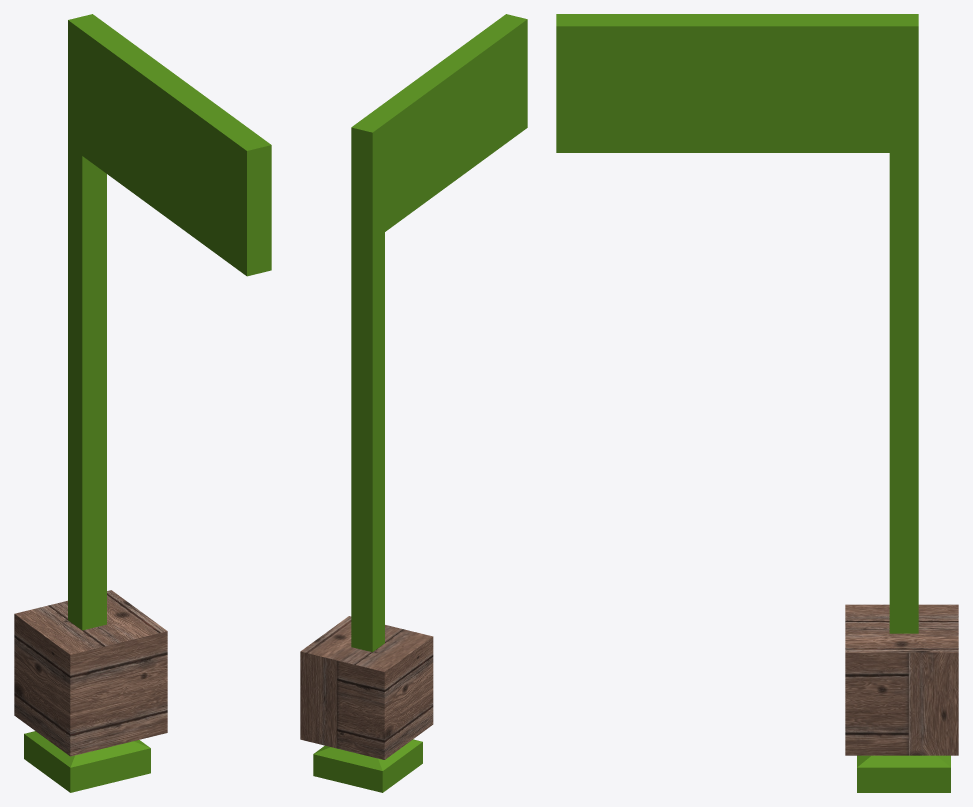
3 views of the same model, side by side, from view 1: azimuth 30°, elevation 25°; view 2: azimuth 150°, elevation 25°; view 3: azimuth 270°, elevation 25° (orthographic). The views are drawn at different scales.
Parts seen in each view (by area): view 1: Semaphore, Cube; view 2: Semaphore, Cube; view 3: Semaphore, Cube.
Part boxes in pixels (box(x1,y1,x2,y2)): Semaphore: box(24, 14, 271, 792); Cube: box(14, 590, 167, 756); Semaphore: box(313, 14, 527, 792); Cube: box(300, 616, 433, 759); Semaphore: box(556, 14, 950, 792); Cube: box(845, 604, 958, 755).
Bounding box in the file's own units: 7.26 × 53.06 × 25.71.
